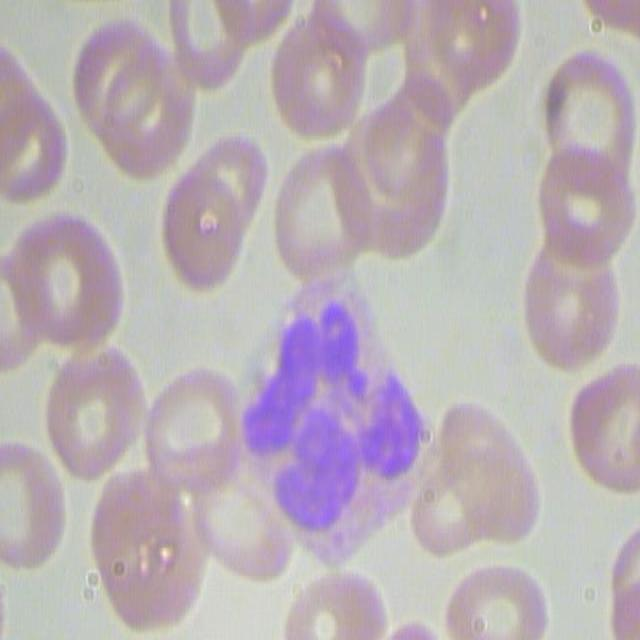RBC: (72, 9, 192, 176), (91, 460, 204, 631), (342, 90, 454, 255), (5, 207, 126, 357), (157, 139, 266, 296), (432, 414, 552, 549), (44, 337, 142, 492), (184, 451, 296, 584), (534, 41, 637, 180), (518, 234, 622, 371), (273, 145, 372, 284), (269, 14, 367, 149), (139, 361, 244, 486), (394, 2, 518, 103), (0, 38, 65, 216), (330, 8, 420, 130), (532, 152, 634, 258), (565, 362, 640, 494), (0, 434, 66, 574), (441, 558, 548, 640), (159, 0, 253, 88), (281, 563, 386, 640), (606, 514, 640, 638)
WBC: (252, 278, 441, 502)
